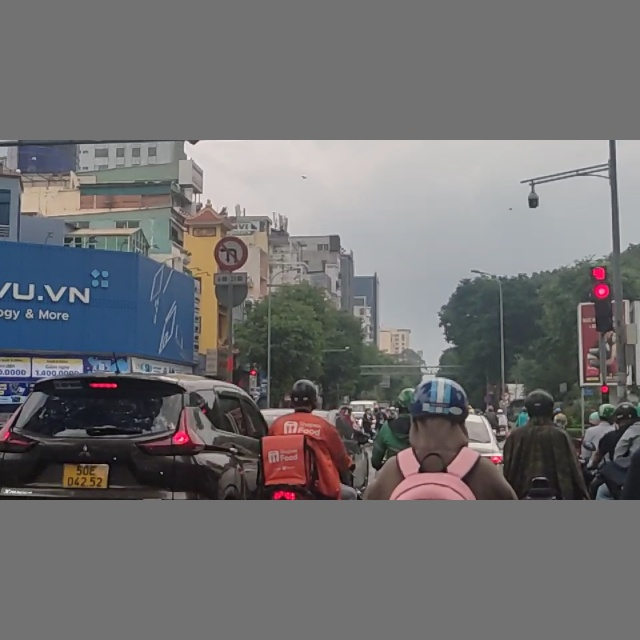P.124c: (213, 237, 249, 271)
